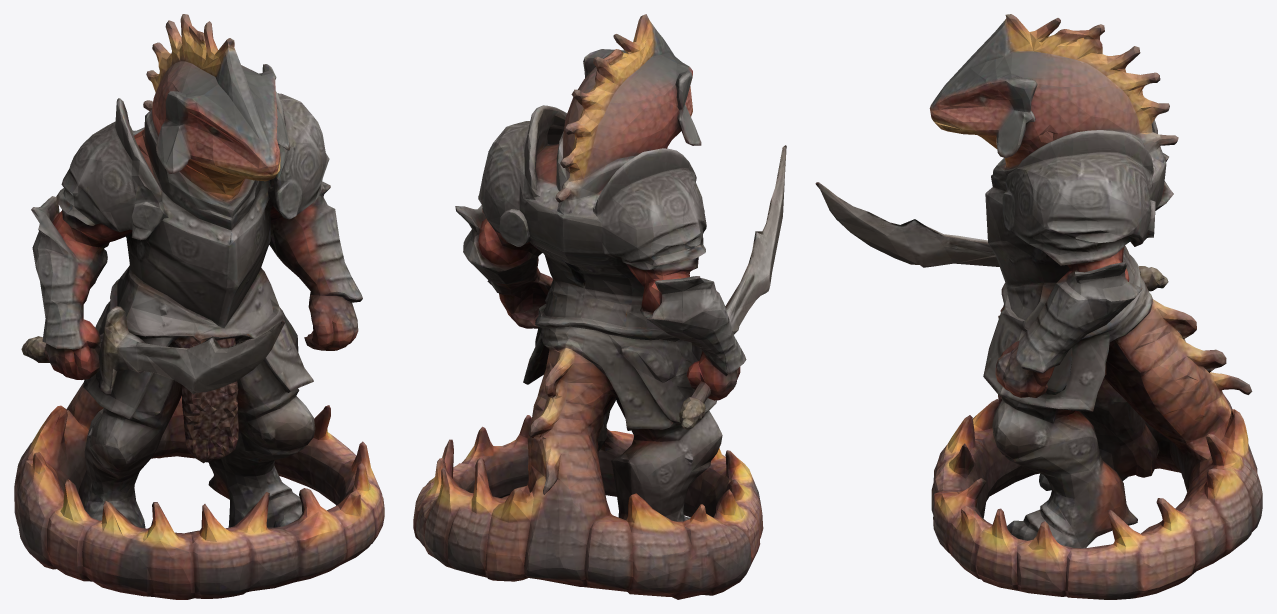
Rendered from salamanderKnight.glb.
The picture shows the model from 3 angles, left to right: view 1: azimuth 30°, elevation 25°; view 2: azimuth 150°, elevation 25°; view 3: azimuth 270°, elevation 25°; orthographic projection. The views are drawn at different scales.
Parts seen in each view (by area): view 1: world; view 2: world; view 3: world.
Boxes of the visible parts, bbox=[...] form: world: bbox=[14, 14, 384, 599]; world: bbox=[413, 14, 786, 599]; world: bbox=[815, 14, 1262, 599].
Bounding box in the file's own units: 0.6407 × 0.9975 × 0.7885.
1 material, 1 textured.
